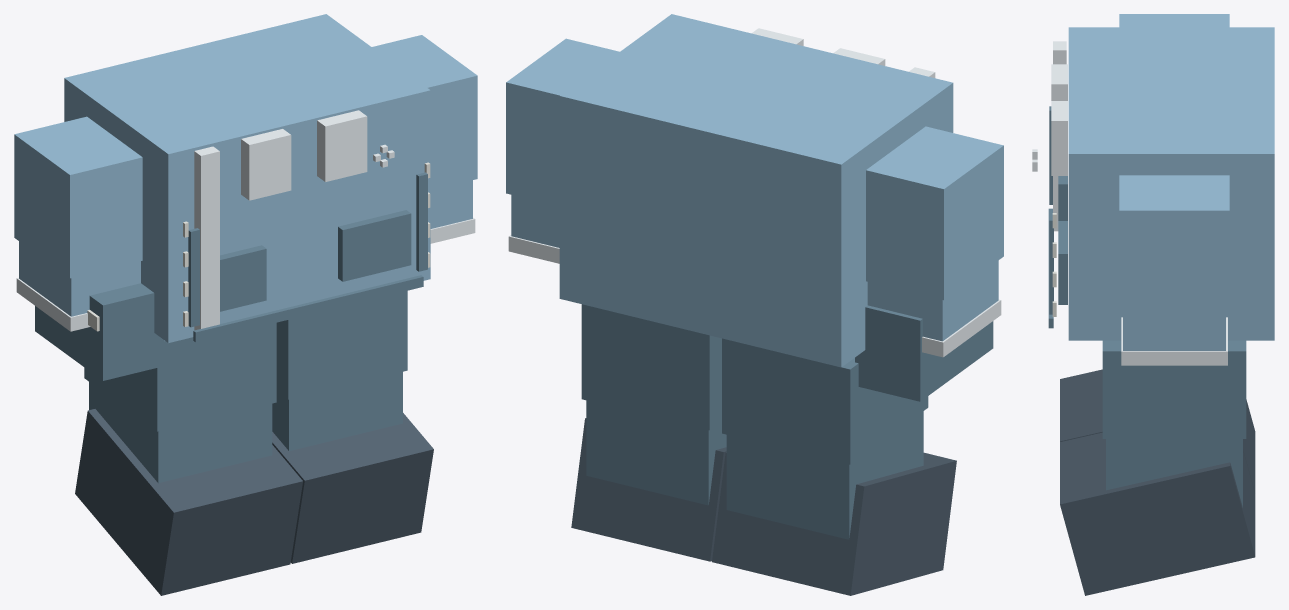
Rendered from student-sky.glb.
3 views of the same model, side by side, from view 1: azimuth 30°, elevation 25°; view 2: azimuth 150°, elevation 25°; view 3: azimuth 270°, elevation 25° (orthographic). The views are drawn at different scales.
Parts seen in each view (by area): view 1: jacket, shoe-Right, upper-sleeve-Right, shoe-Left, trouser-Right, trouser-Left, lower-trouser-Right, upper-sleeve-Left, satchel, lower-trouser-Left, pocket-1, satchel-strap (+10 smaller); view 2: jacket, upper-sleeve-Right, shoe-Right, trouser-Right, trouser-Left, lower-trouser-Right, lower-trouser-Left, upper-sleeve-Left, shoe-Left, satchel, lower-sleeve-Right, lower-sleeve-Left (+2 smaller); view 3: jacket, shoe-Left, upper-sleeve-Left, trouser-Left, lower-trouser-Left, lower-sleeve-Left, shoe-Right, cuff-Left, upper-sleeve-Right, lapel-1, pocket-1, lapel--1 (+3 smaller).
Part boxes in pixels (x1,y1,x2,y2): jacket: [64, 14, 430, 342]; shoe-Right: [75, 409, 302, 595]; upper-sleeve-Right: [14, 116, 142, 278]; shoe-Left: [272, 413, 433, 563]; trouser-Right: [84, 322, 276, 431]; trouser-Left: [276, 290, 407, 399]; lower-trouser-Right: [89, 382, 272, 482]; upper-sleeve-Left: [372, 35, 477, 190]; satchel: [35, 283, 163, 380]; lower-trouser-Left: [272, 372, 402, 451]; pocket-1: [338, 210, 411, 281]; satchel-strap: [194, 146, 219, 330]; jacket: [559, 14, 953, 367]; upper-sleeve-Right: [866, 126, 1003, 300]; shoe-Right: [712, 452, 956, 595]; trouser-Right: [722, 338, 928, 464]; trouser-Left: [581, 304, 721, 430]; lower-trouser-Right: [726, 411, 923, 539]; lower-trouser-Left: [586, 400, 726, 505]; upper-sleeve-Left: [506, 38, 619, 206]; shoe-Left: [571, 418, 726, 561]; satchel: [855, 305, 993, 401]; lower-sleeve-Right: [867, 260, 998, 341]; lower-sleeve-Left: [511, 195, 559, 247]; jacket: [1068, 27, 1274, 340]; shoe-Left: [1060, 432, 1255, 595]; upper-sleeve-Left: [1119, 175, 1229, 312]; trouser-Left: [1102, 340, 1246, 438]; lower-trouser-Left: [1106, 439, 1242, 507]; lower-sleeve-Left: [1123, 312, 1225, 350]; shoe-Right: [1060, 369, 1255, 493]; cuff-Left: [1121, 317, 1227, 365]; upper-sleeve-Right: [1119, 14, 1229, 27]; lapel-1: [1051, 101, 1067, 175]; pocket-1: [1058, 221, 1067, 304]; lapel--1: [1051, 64, 1067, 100].
Size of the model in its own units: 1.07 by 1.13 by 0.559.
